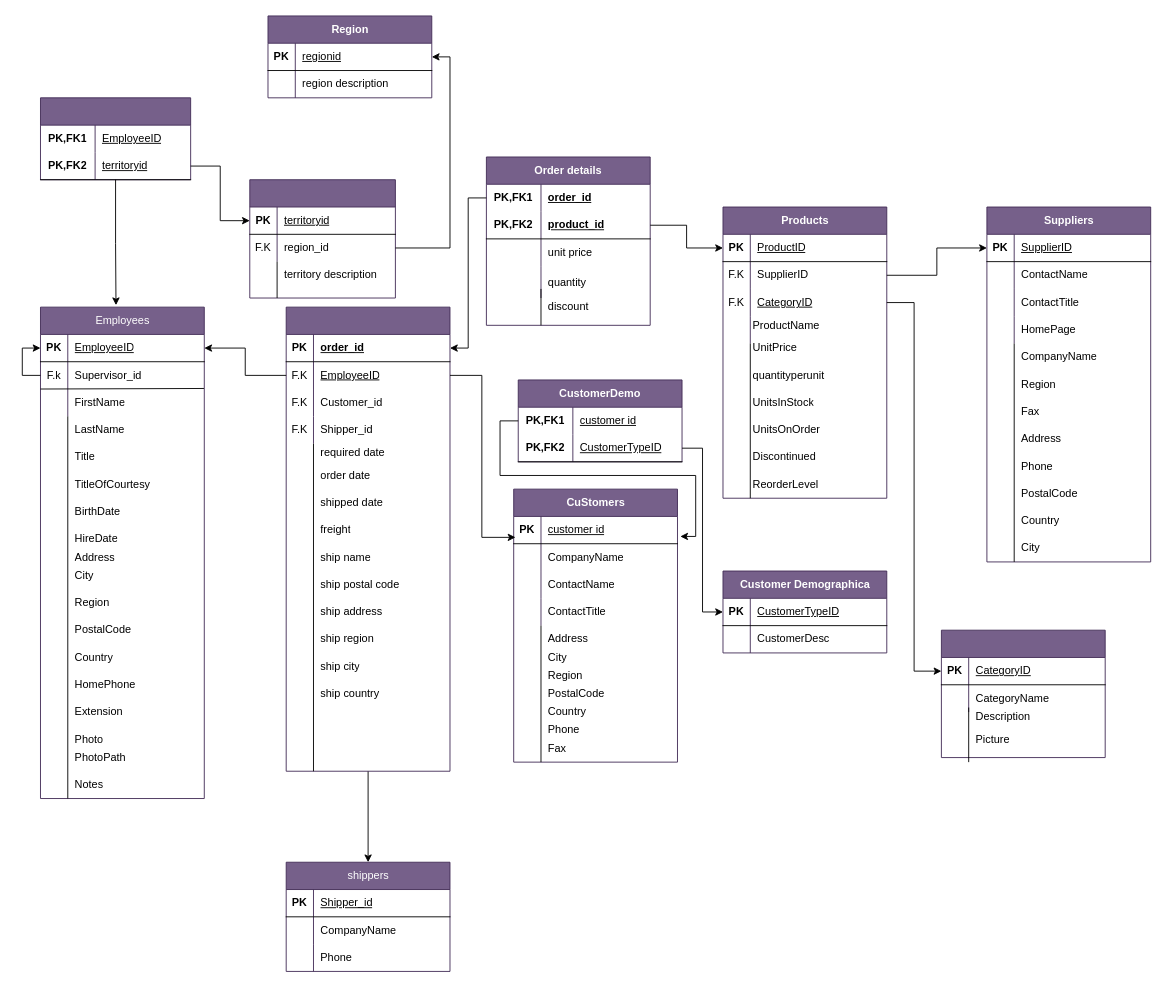
Some shapes in this 1167 by 987 pixel diagram are drawn without their labels. Each missing label, with the box of its shape:
Categories: (940, 629, 1105, 758)
Eemployee Territory: (40, 97, 191, 180)
Orders: (285, 306, 450, 771)
Territories: (249, 179, 395, 298)
